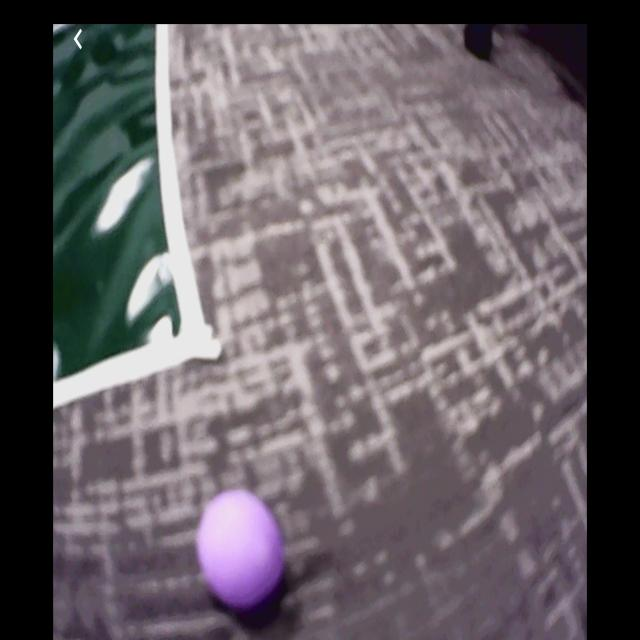ball: (199, 489, 286, 613)
